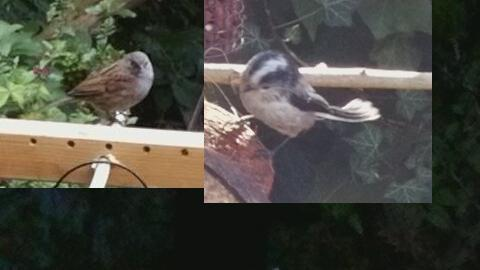dunnock: (47, 50, 154, 127)
long tailed tit: (226, 50, 382, 157)
